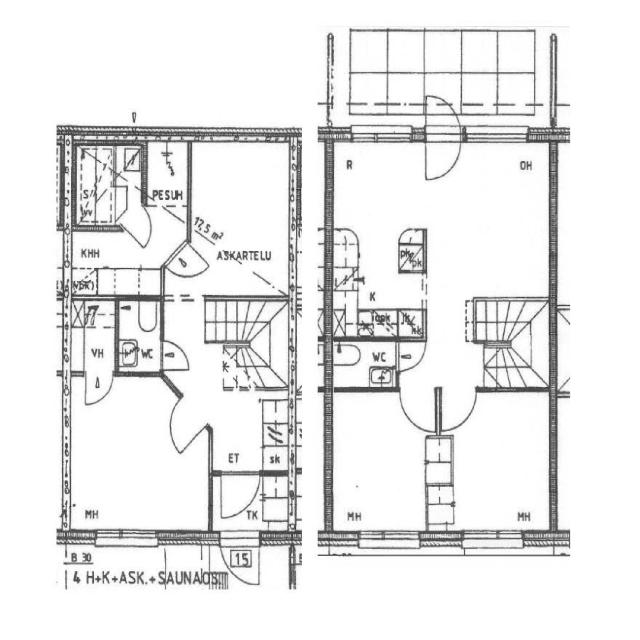door: (100, 213, 160, 287), (418, 91, 464, 184), (163, 394, 211, 459), (216, 468, 263, 523), (434, 382, 479, 434), (216, 531, 257, 587), (163, 240, 208, 285), (398, 386, 439, 434), (118, 202, 156, 249), (153, 336, 195, 372), (392, 338, 429, 374), (82, 371, 116, 408)
window: (456, 523, 536, 557), (351, 524, 425, 554), (91, 524, 164, 552), (197, 130, 287, 150), (466, 125, 532, 148), (348, 127, 417, 148)
zone: (323, 142, 564, 313), (59, 369, 214, 539), (428, 388, 560, 537), (329, 142, 425, 336), (186, 138, 296, 299), (326, 388, 446, 534), (66, 227, 170, 297), (70, 139, 145, 233), (64, 293, 117, 374), (331, 338, 399, 391), (145, 137, 192, 209), (117, 299, 162, 374)
